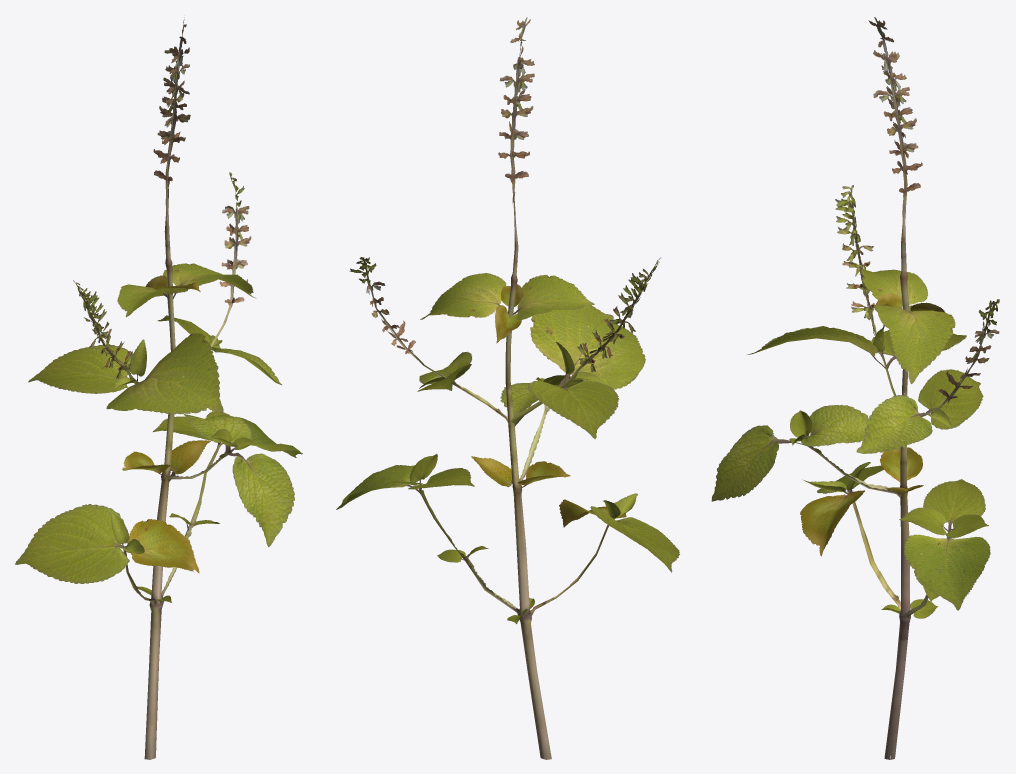
The picture shows the model from 3 angles, left to right: view 1: azimuth 30°, elevation 25°; view 2: azimuth 150°, elevation 25°; view 3: azimuth 270°, elevation 25°; orthographic projection. The views are drawn at different scales.
Parts seen in each view (by area): view 1: shrub_03__d_lod0; view 2: shrub_03__d_lod0; view 3: shrub_03__d_lod0.
Boxes of the visible parts, box(x1,y1,x2,y2) form: shrub_03__d_lod0: box(15, 17, 302, 759); shrub_03__d_lod0: box(336, 17, 679, 759); shrub_03__d_lod0: box(711, 17, 999, 759).
Bounding box in the file's own units: 0.1128 × 0.2556 × 0.0893.
1 material, 1 textured.
